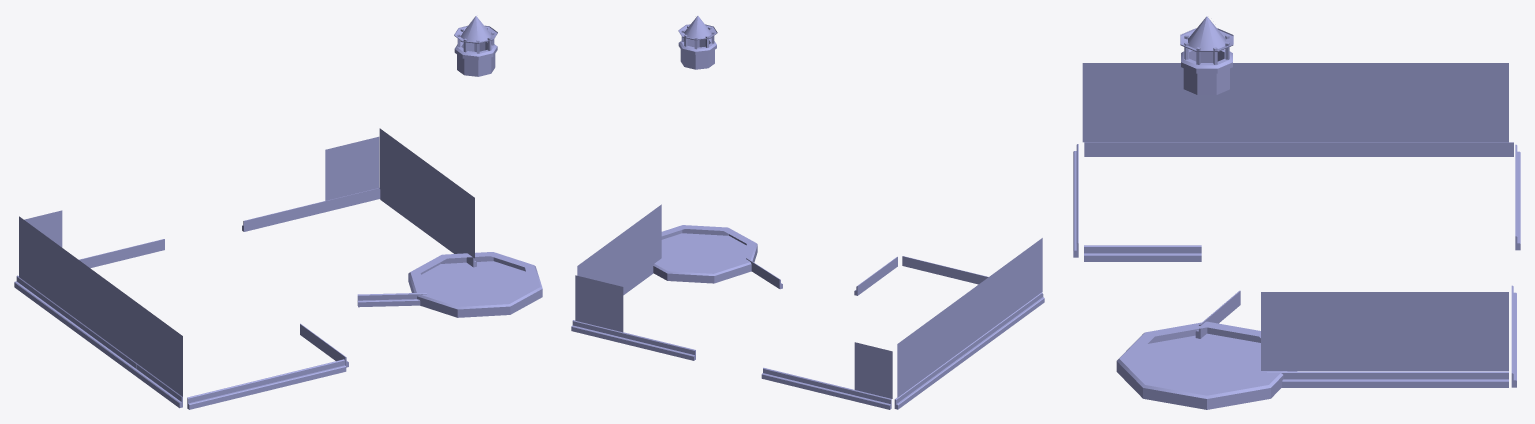
The model's file is FairyTale33.gltf.
3 views of the same model, side by side, from view 1: azimuth 30°, elevation 25°; view 2: azimuth 150°, elevation 25°; view 3: azimuth 270°, elevation 25° (orthographic). The views are drawn at different scales.
Visible parts, largest first — view 1: HouseLG07_Stone_Stacked; view 2: HouseLG07_Stone_Stacked; view 3: HouseLG07_Stone_Stacked.
Part boxes in pixels (bbox=[...]): HouseLG07_Stone_Stacked: bbox=[14, 16, 542, 409]; HouseLG07_Stone_Stacked: bbox=[571, 16, 1044, 409]; HouseLG07_Stone_Stacked: bbox=[1073, 16, 1520, 409].
Size of the model in its own units: 20.82 by 13.6 by 15.37.
